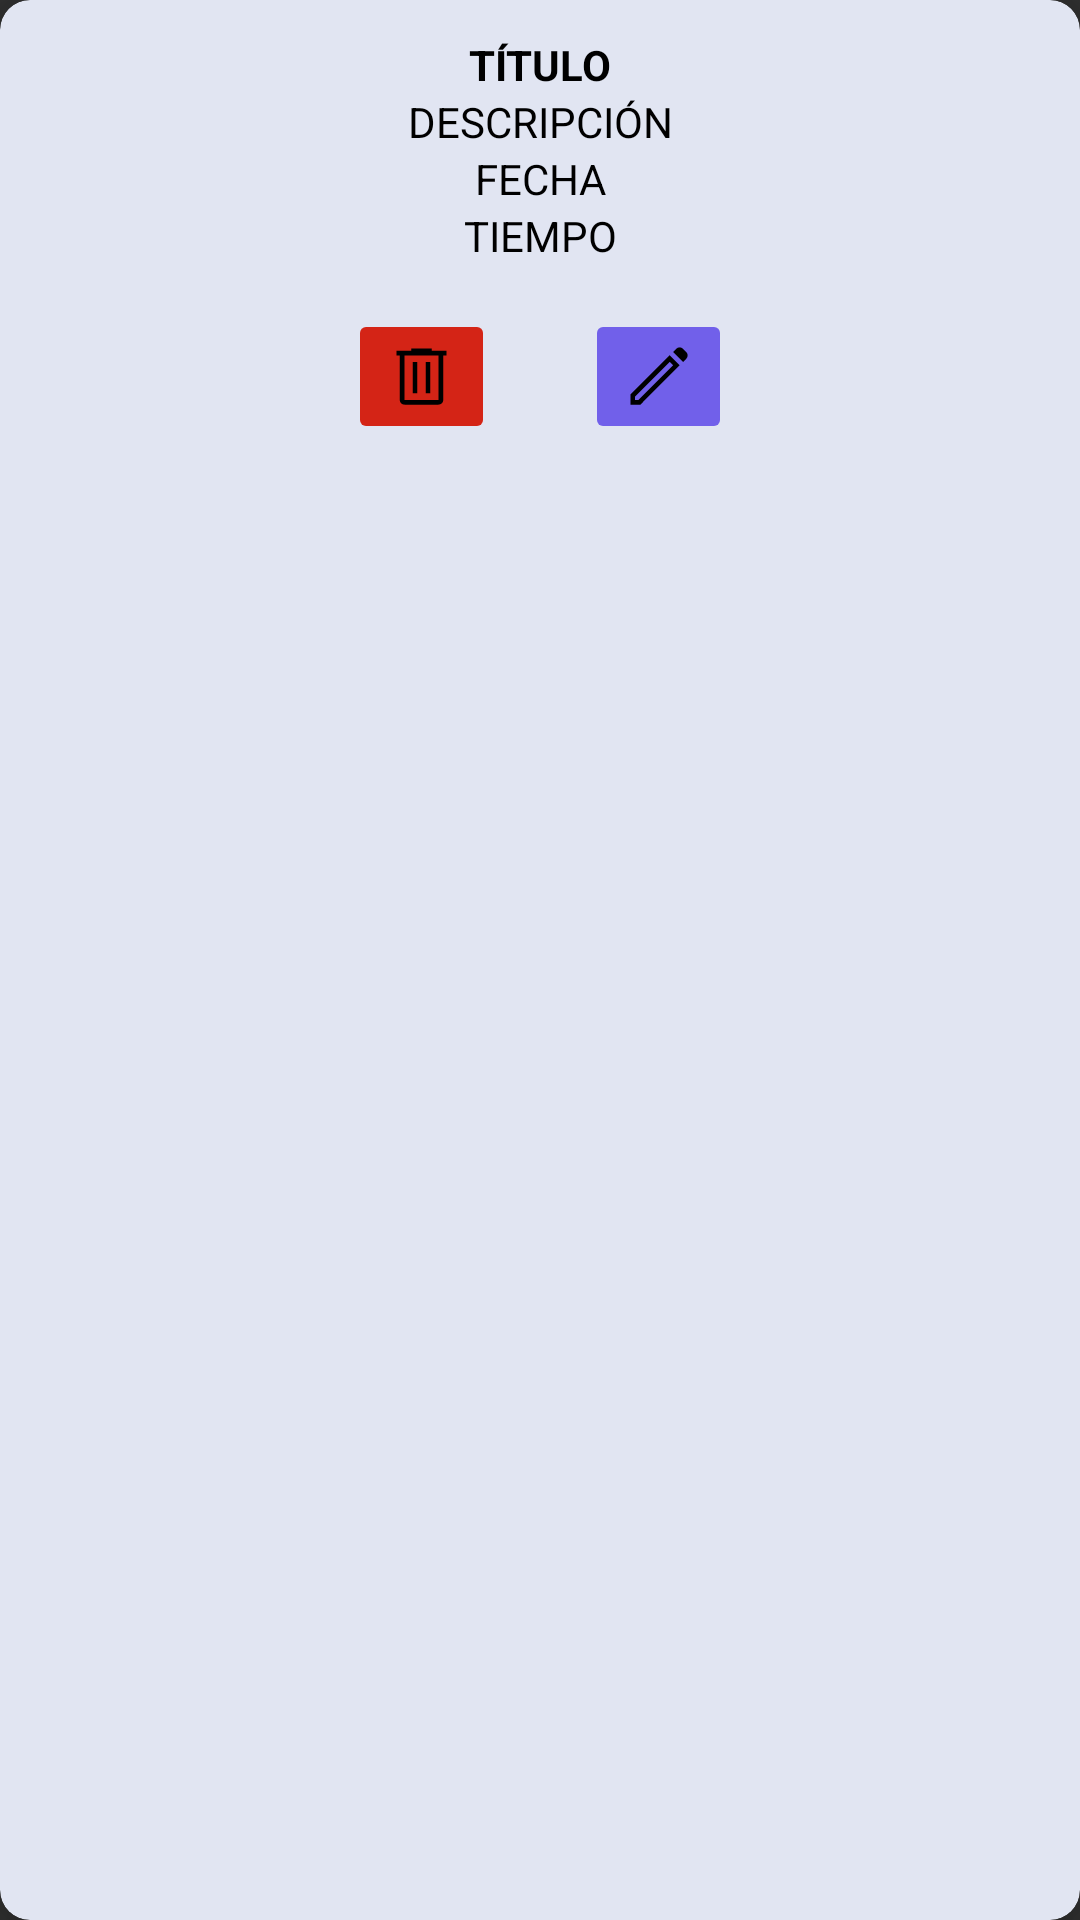

Named icons in this screenshot (1080px×1920px) and their bounding boxes, bbox=[x1, y1, x2, y2]:
delete: bbox=[360, 327, 483, 426]
edit: bbox=[597, 327, 720, 426]
